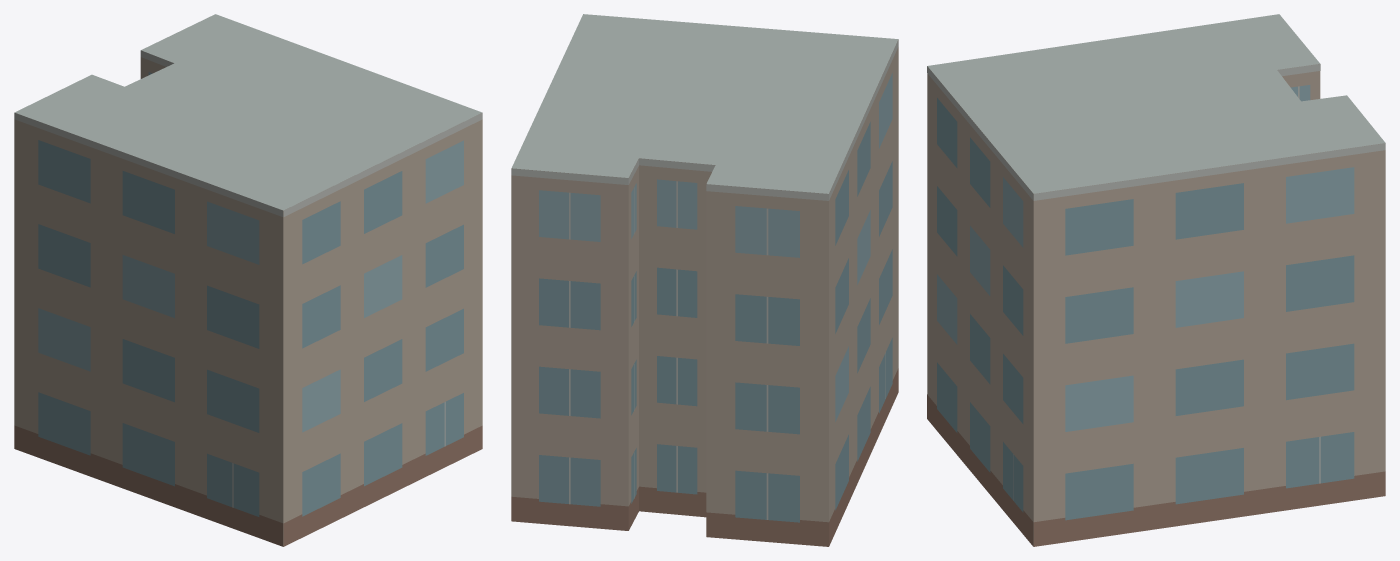
Rendered from survey-upis-32805716.glb.
3 renders of one model, left to right at view 1: azimuth 30°, elevation 25°; view 2: azimuth 150°, elevation 25°; view 3: azimuth 270°, elevation 25°, orthographic. The views are drawn at different scales.
Visible parts, largest first — view 1: survey-upis-32805716.tmp; view 2: survey-upis-32805716.tmp; view 3: survey-upis-32805716.tmp.
Boxes of the visible parts, x1=… form: survey-upis-32805716.tmp: x1=14, y1=14, x2=482, y2=546; survey-upis-32805716.tmp: x1=511, y1=14, x2=898, y2=546; survey-upis-32805716.tmp: x1=927, y1=14, x2=1385, y2=546.
Size of the model in its own units: 13.29 by 12.15 by 14.31.
